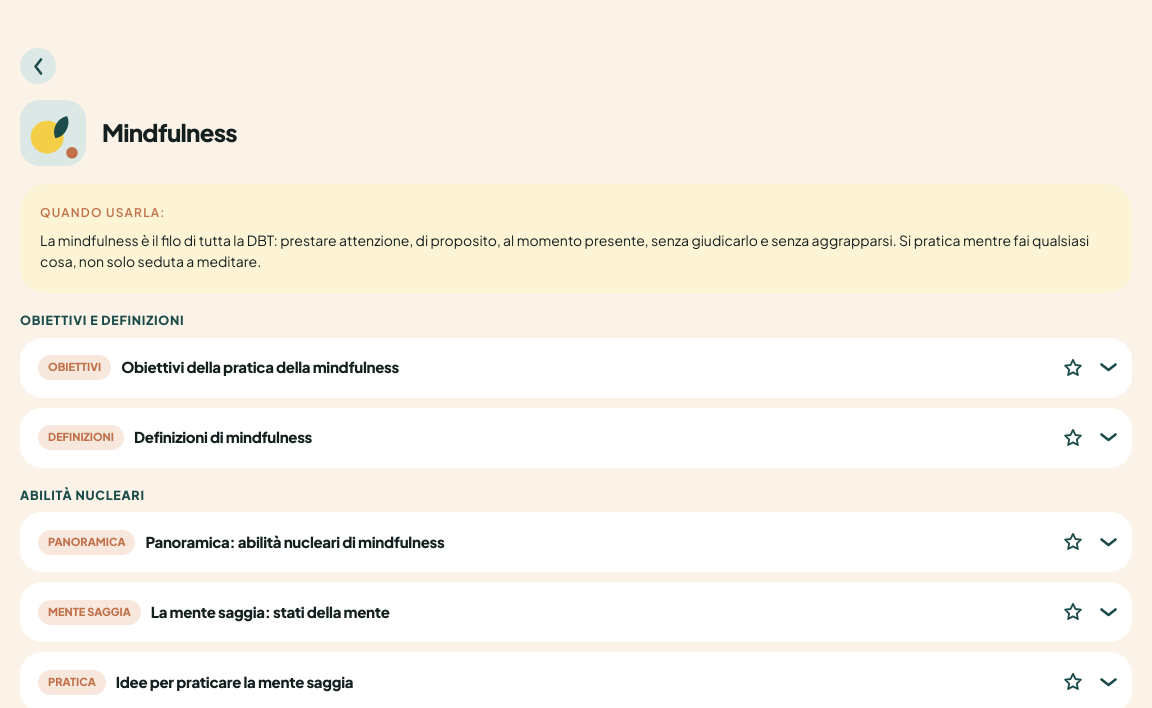
Guida › nel modulo si apre una scheda e compare il riferimento al manuale
Click the button "MENTE SAGGIA La mente saggia: stati della mente".
click(89, 612)  # box [38, 600, 1043, 625]
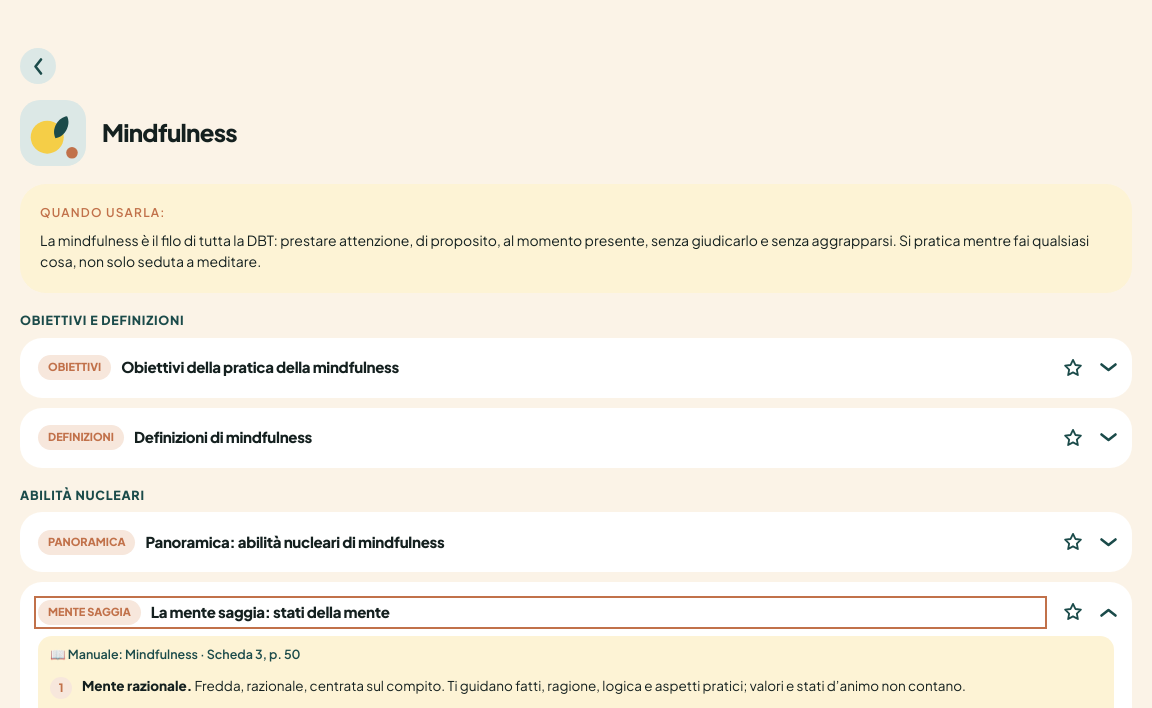
Check: the text "📖 Manuale: Mindfulness · Scheda 3, p. 50" is shown, box [50, 646, 301, 662]
Check: the text "Mente razionale." is shown, box [82, 677, 192, 694]
